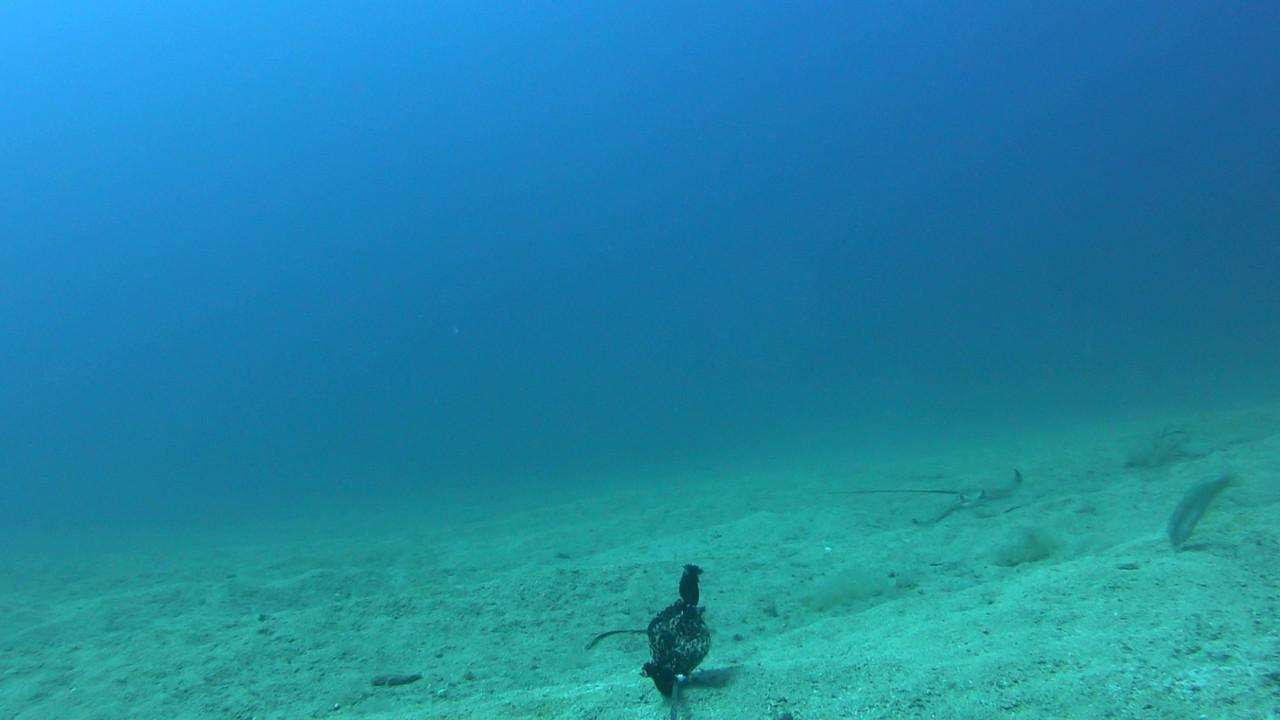myliobatis: (803, 452, 1047, 538)
raor: (1166, 472, 1242, 548)
